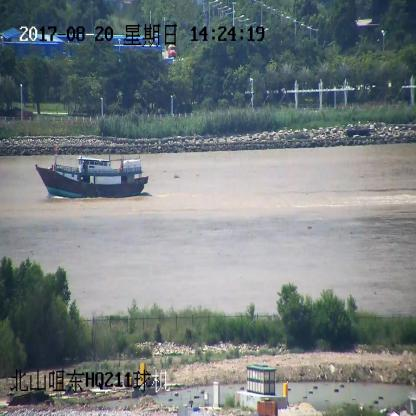Fishing Boat: (35, 152, 149, 198)
